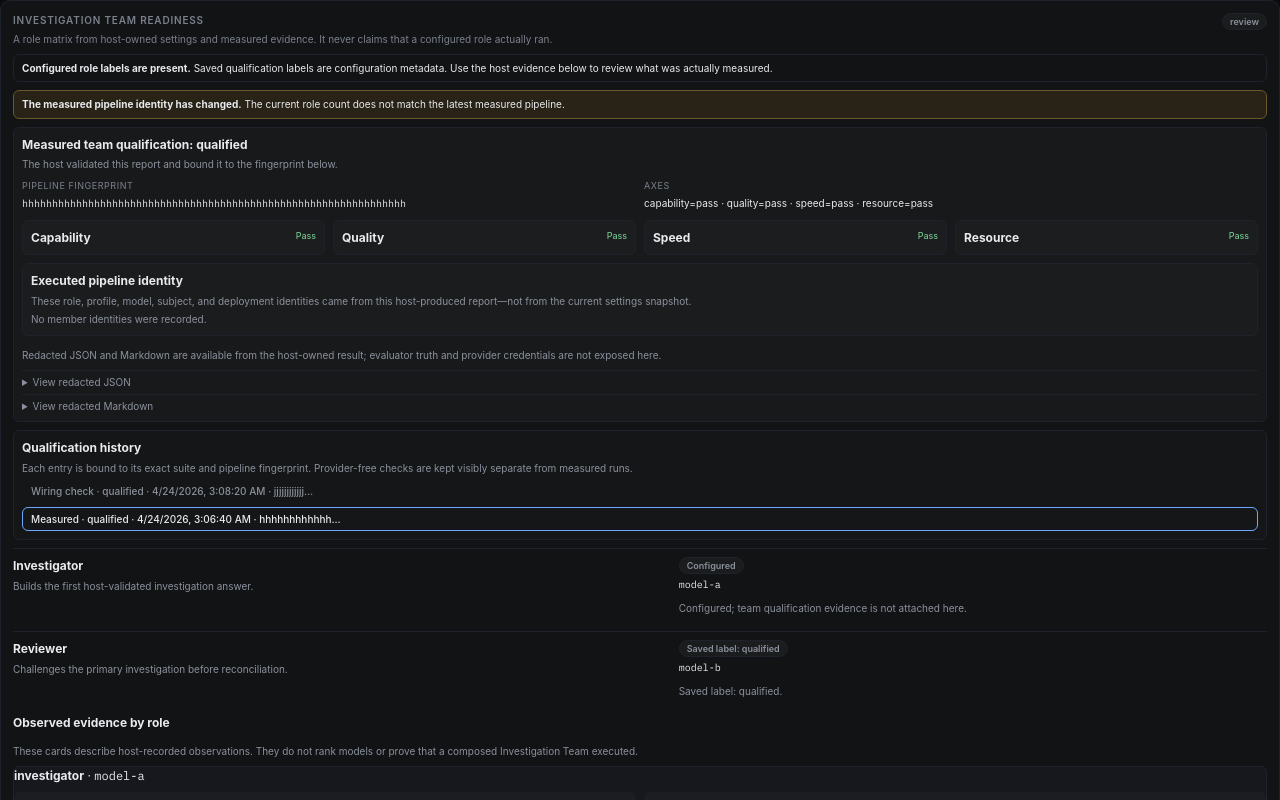
Test: InvestigationTeamReadinessPanel › keeps durable measured and provider-free history visibly distinct
Expected: the element with test id "investigation-team-qualification-history" shows "measured", left=22, top=507, right=1258, bottom=531
Expected: the element with test id "investigation-team-qualification-report" shows "Measured team qualification", left=22, top=136, right=189, bottom=152
Click the button "Wiring check" at x=62, y=491, box left=22, top=479, right=1258, bottom=503
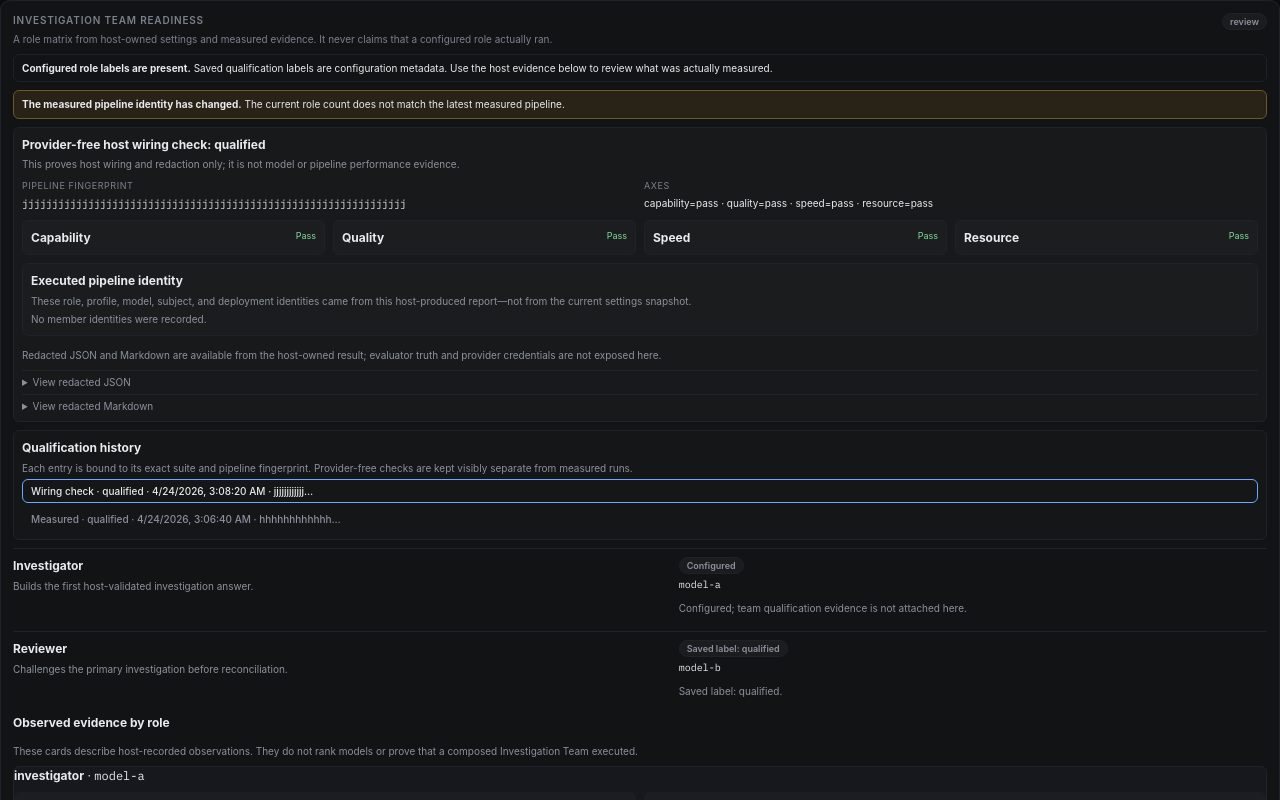
Expected: the element with test id "investigation-team-qualification-report" shows "not model or pipeline performance evidence", left=22, top=158, right=460, bottom=170
